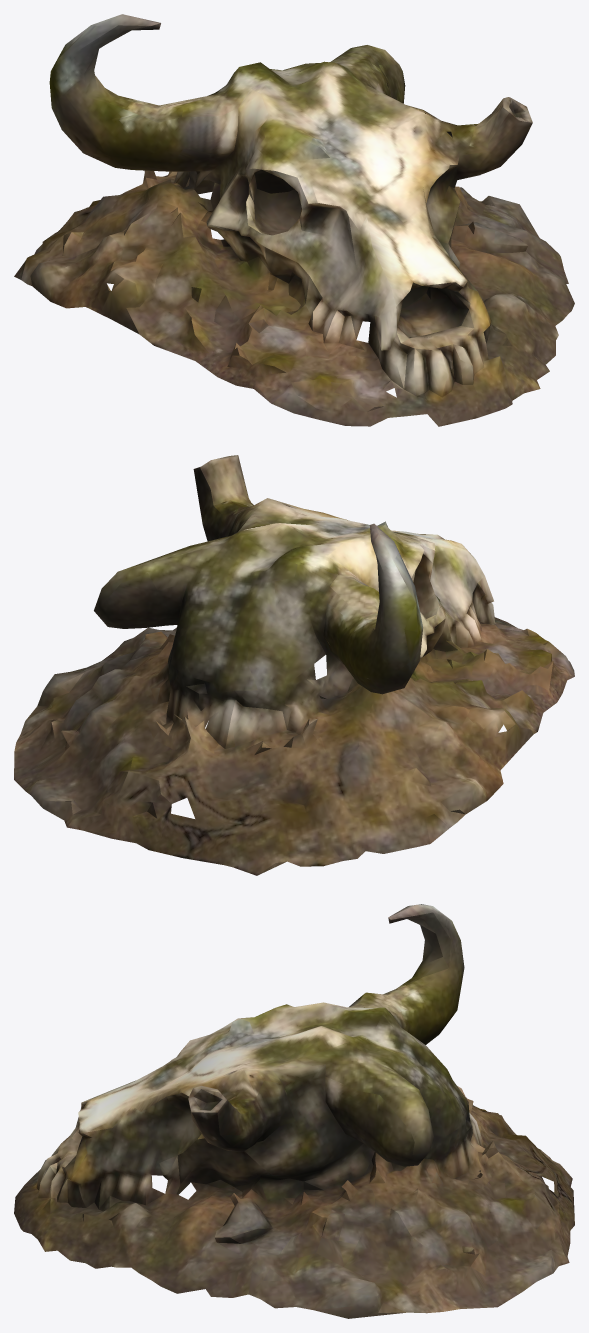
Rendered from prop-giant-skull.glb.
The picture shows the model from 3 angles, top to bottom: view 1: azimuth 30°, elevation 25°; view 2: azimuth 150°, elevation 25°; view 3: azimuth 270°, elevation 25°; orthographic projection. The views are drawn at different scales.
Visible parts, largest first — view 1: prop-giant-skull; view 2: prop-giant-skull; view 3: prop-giant-skull.
Part boxes in pixels (x1,y1,x2,y2): prop-giant-skull: (14,14,574,426); prop-giant-skull: (14,455,574,875); prop-giant-skull: (14,904,574,1318).
Bounding box in the file's own units: 7.66 × 4.6 × 8.97.
1 material, 1 textured.
